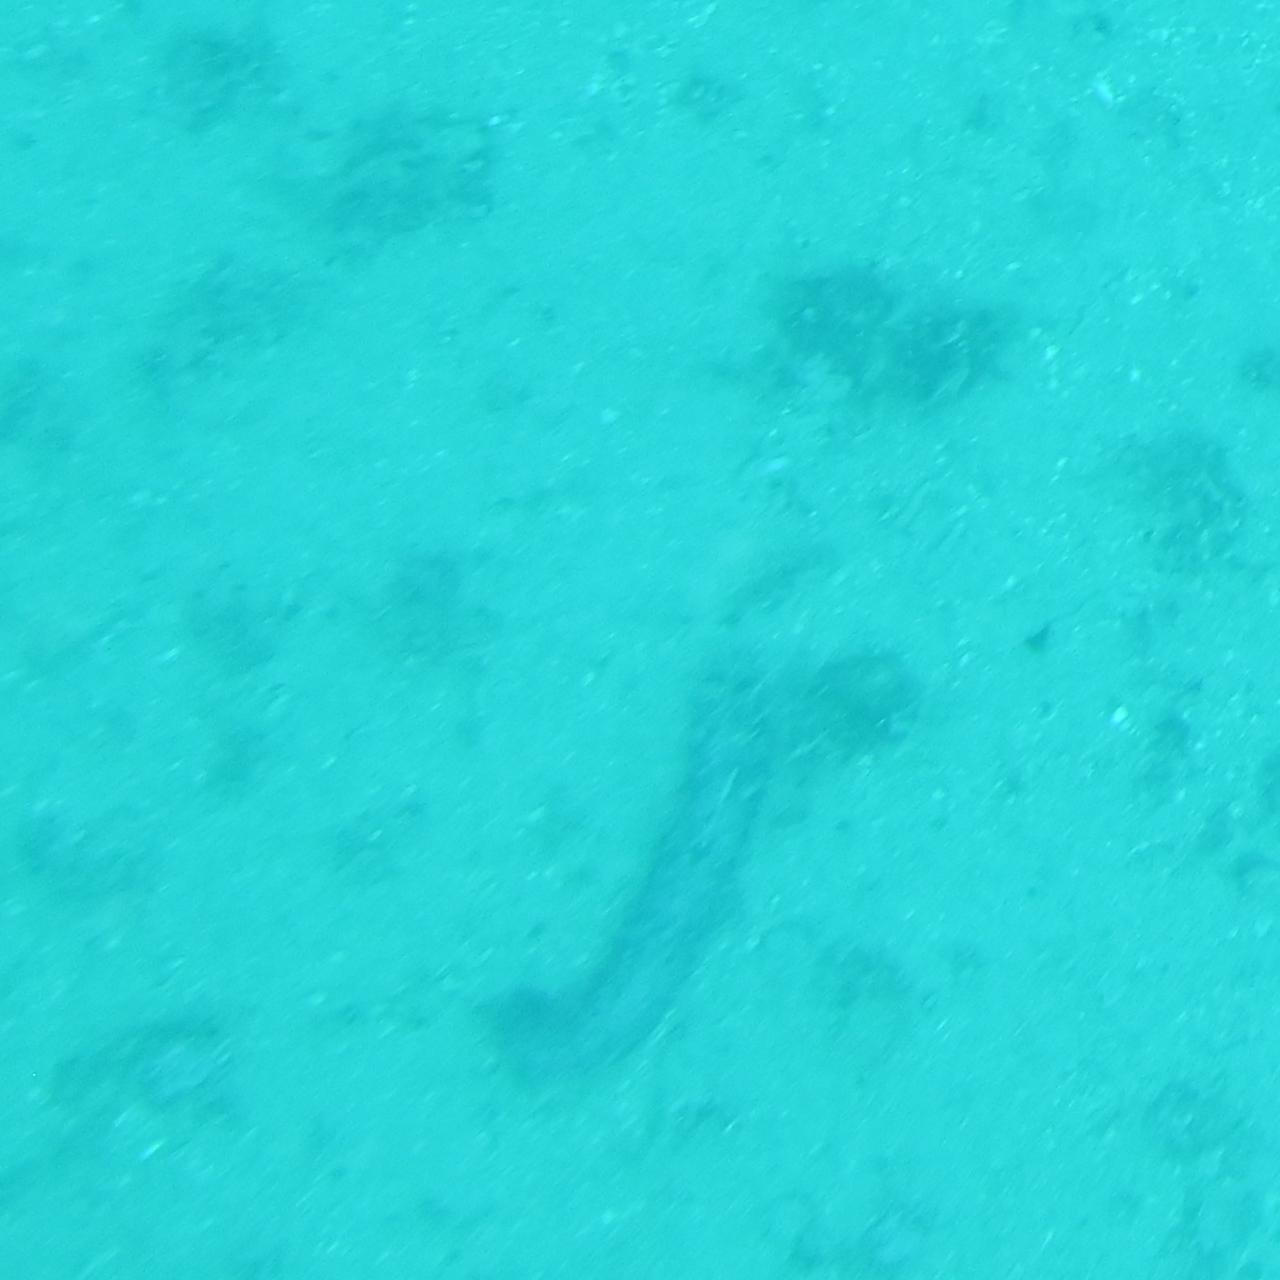Holothuria tubulosa: (472, 664, 808, 1096)
